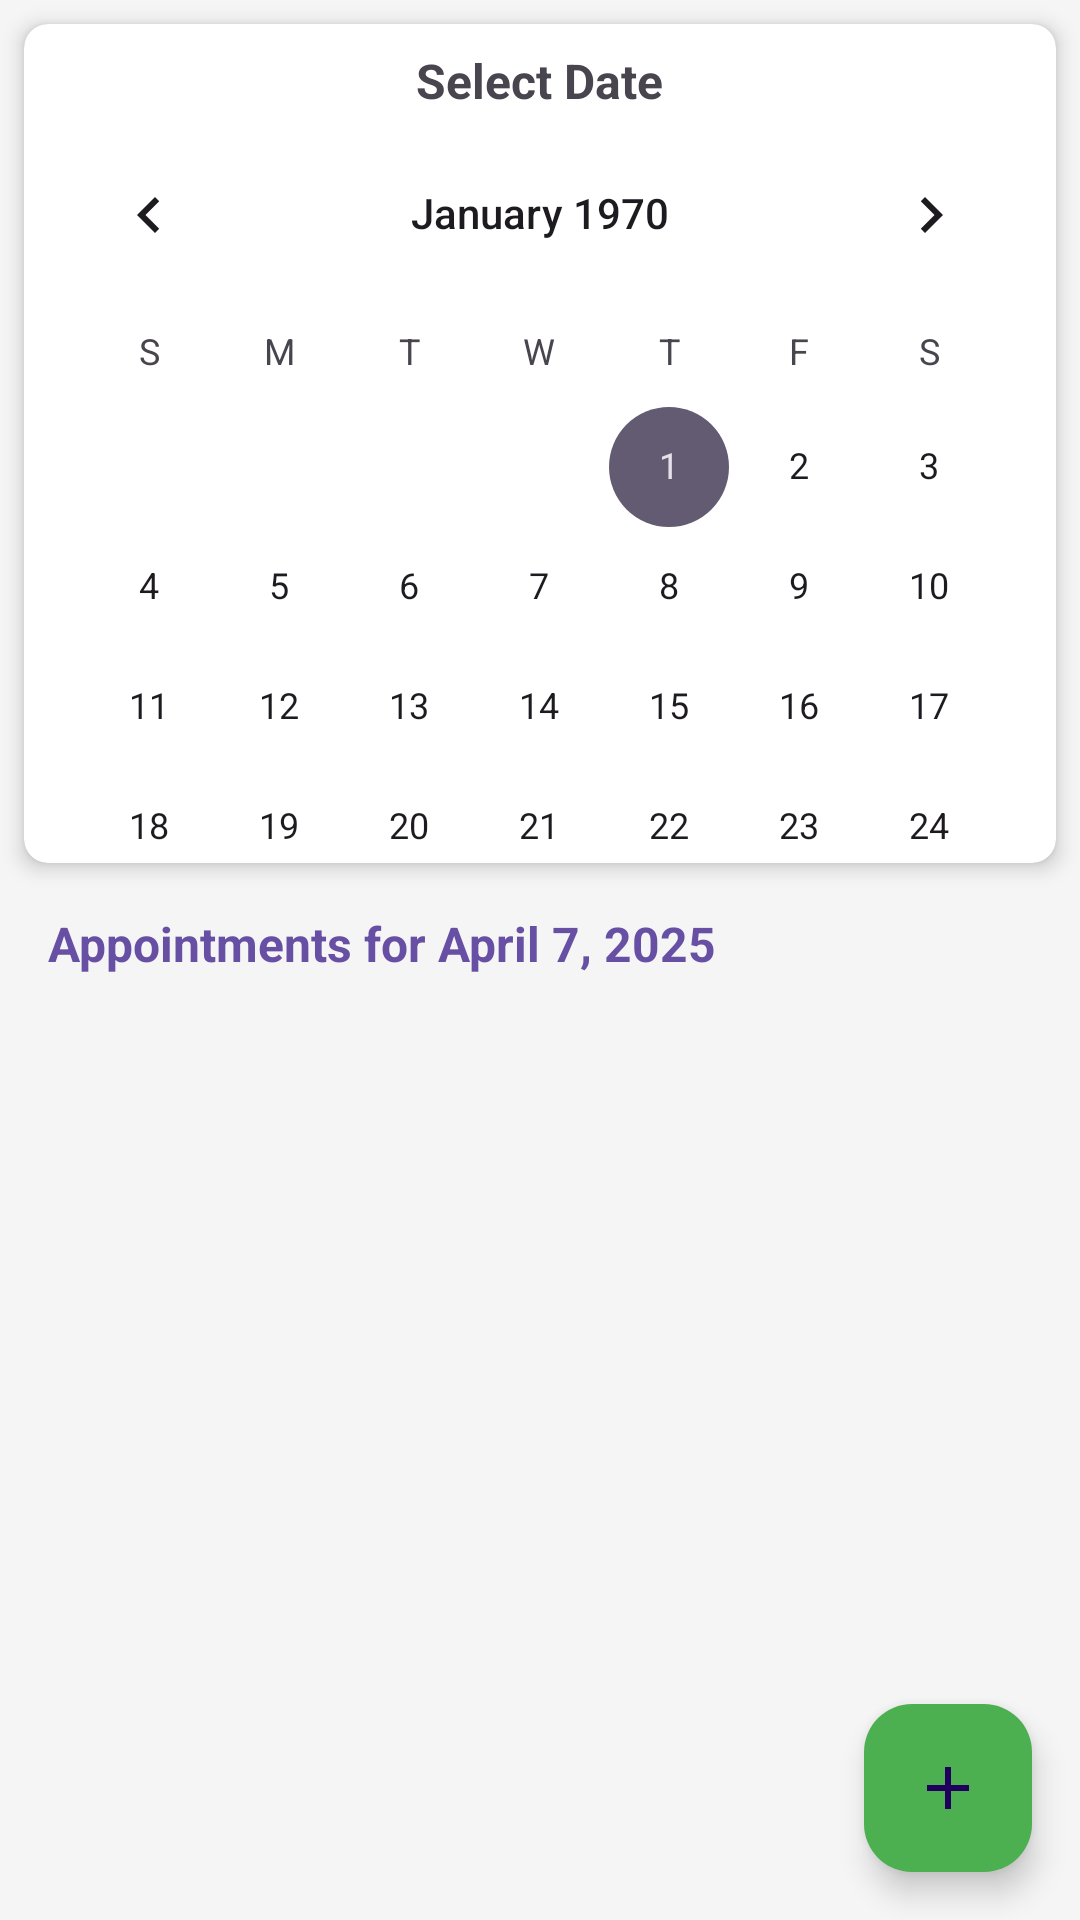

Screen size 1080 x 1920. Icon name, then its center in pixels as point (x, y):
Schedule new appointment: point (948, 1788)
